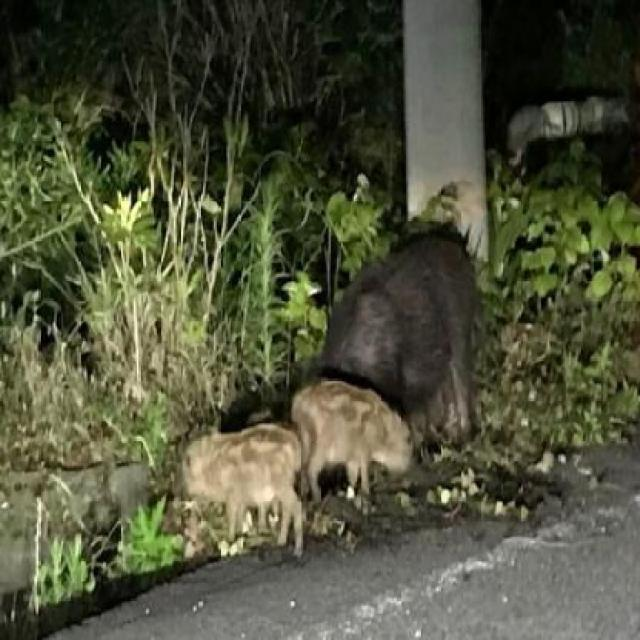wildboar: (305, 217, 486, 478), (286, 373, 428, 524), (180, 413, 314, 561)
